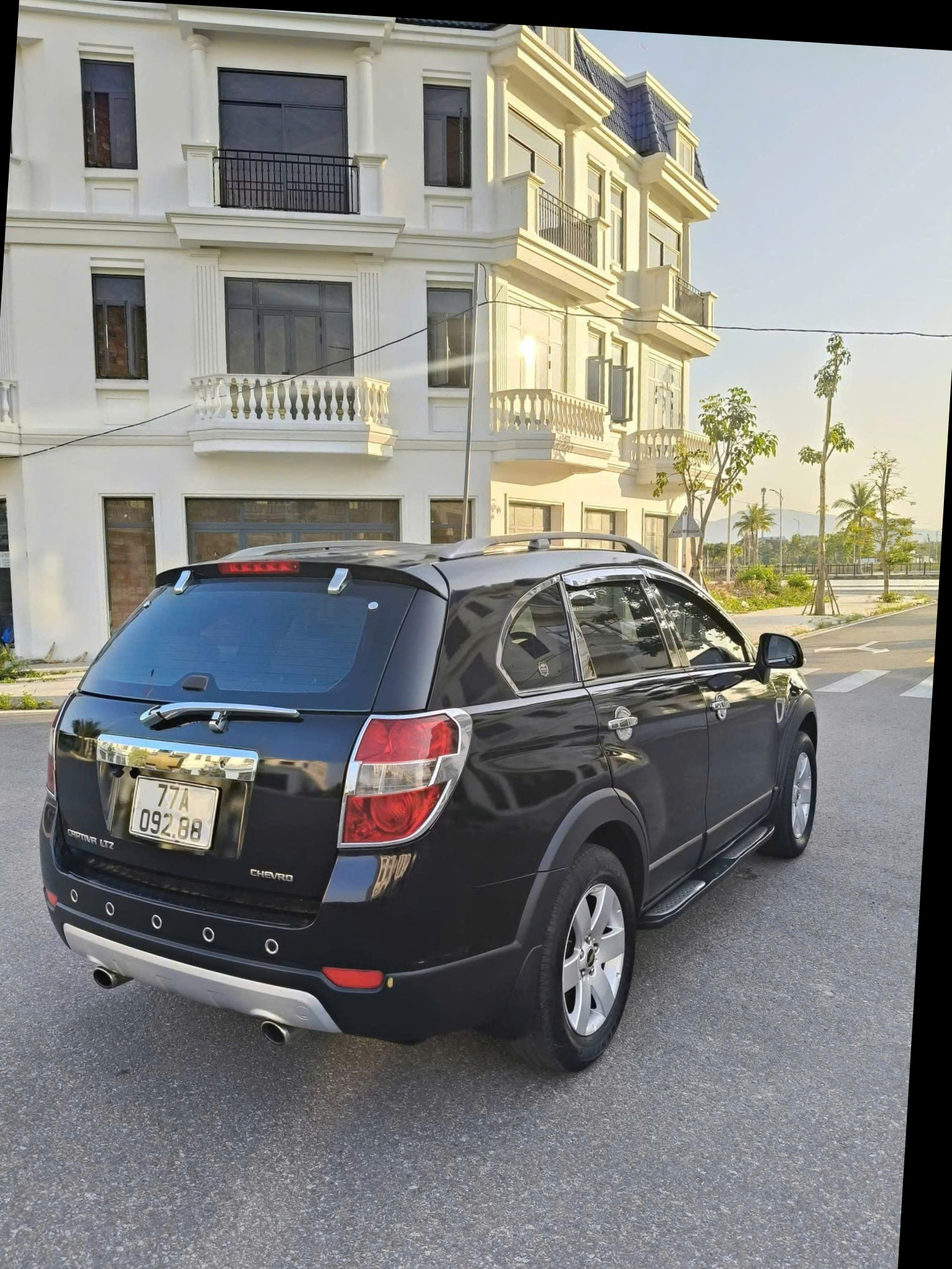Bien-so: (176, 762, 259, 825)
